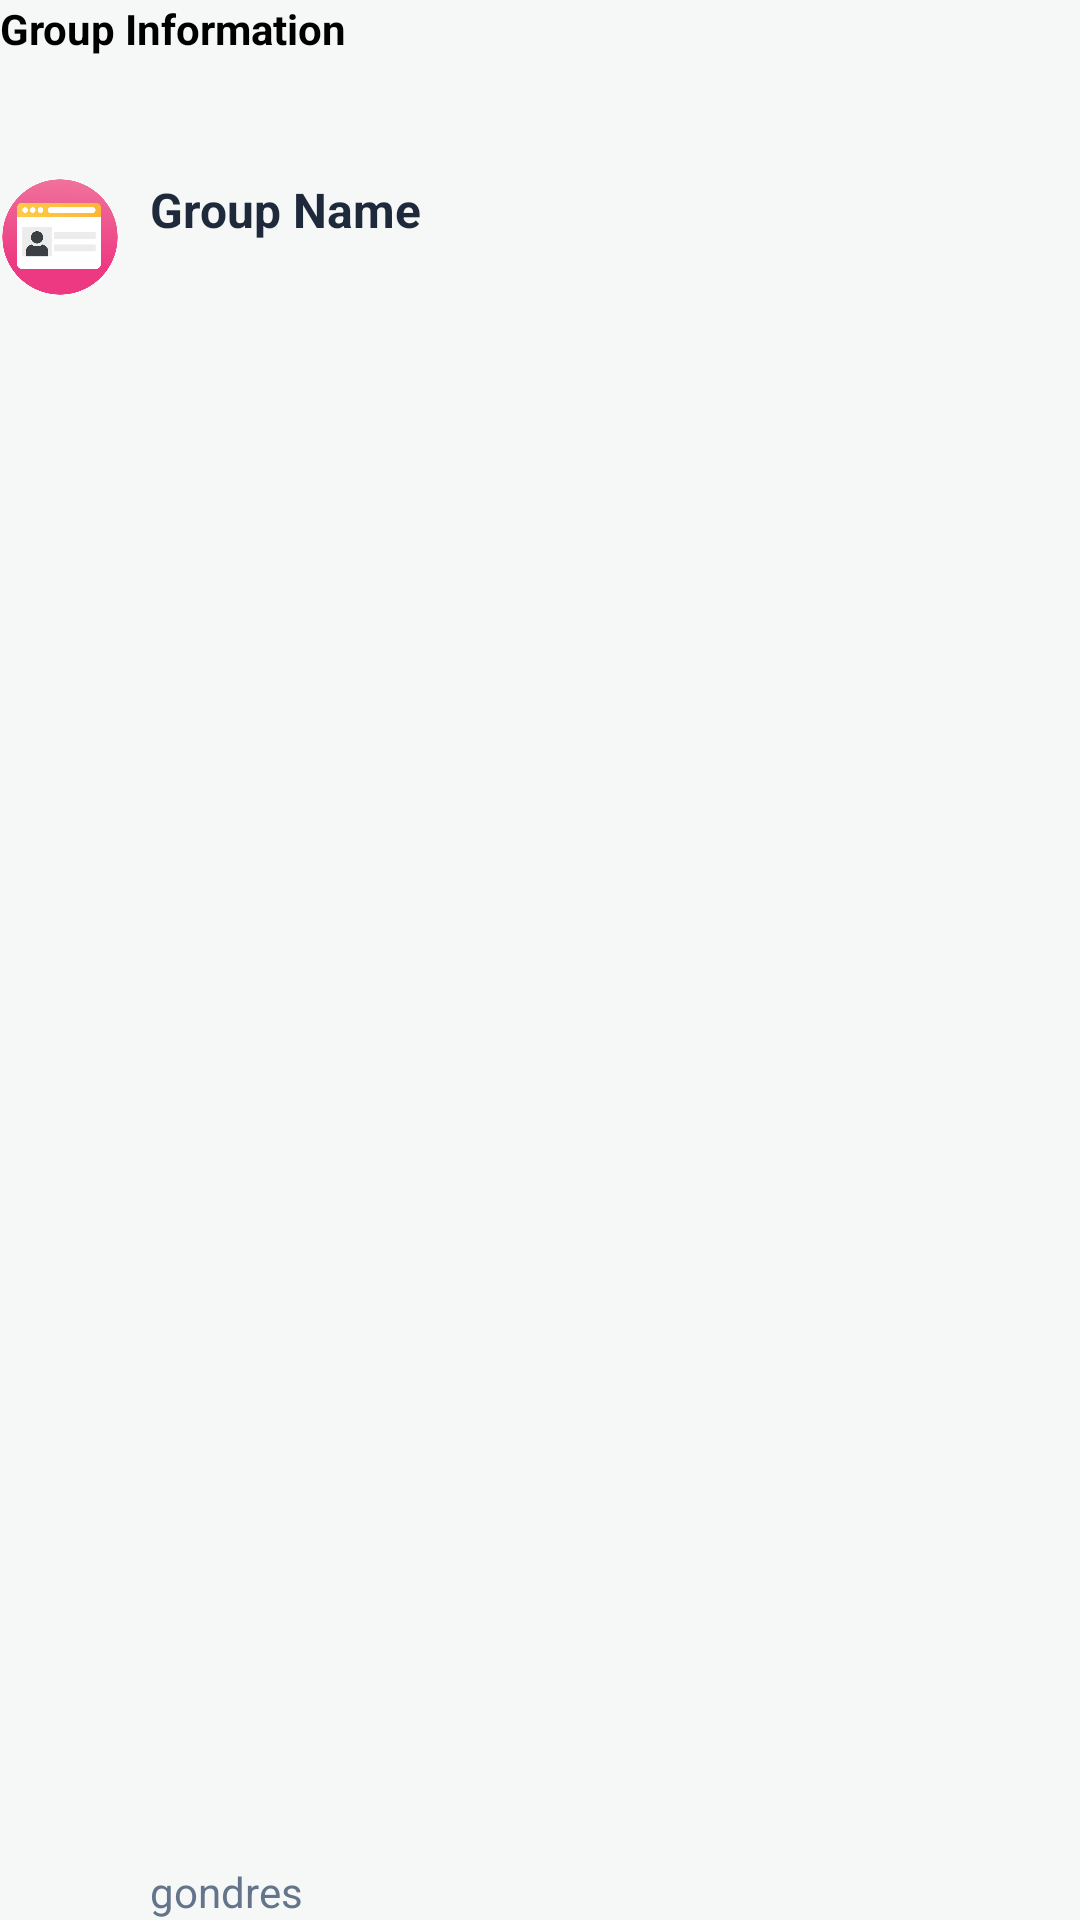

Point at icon controls on the screen. Image size 1080px x 1920px, points as point (x, y).
user profile: point (60, 237)
